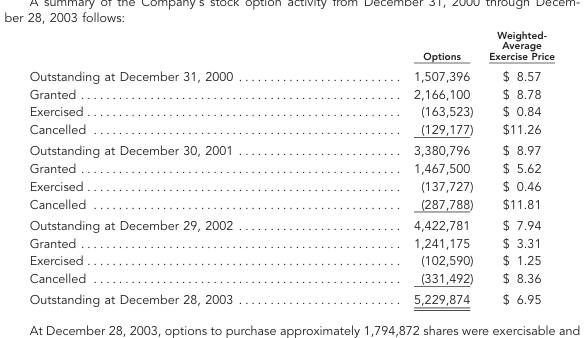table: (28, 28, 554, 307)
table column: (28, 28, 406, 307), (406, 28, 480, 307), (480, 28, 554, 307)
table column header: (28, 28, 554, 64)
table row: (28, 28, 554, 64), (28, 64, 554, 84), (28, 139, 554, 159), (28, 194, 554, 214), (28, 120, 554, 139), (28, 214, 554, 233), (28, 269, 554, 288), (28, 288, 554, 307), (28, 84, 554, 102), (28, 102, 554, 120), (28, 159, 554, 177), (28, 233, 554, 251), (28, 251, 554, 269), (28, 177, 554, 194)
